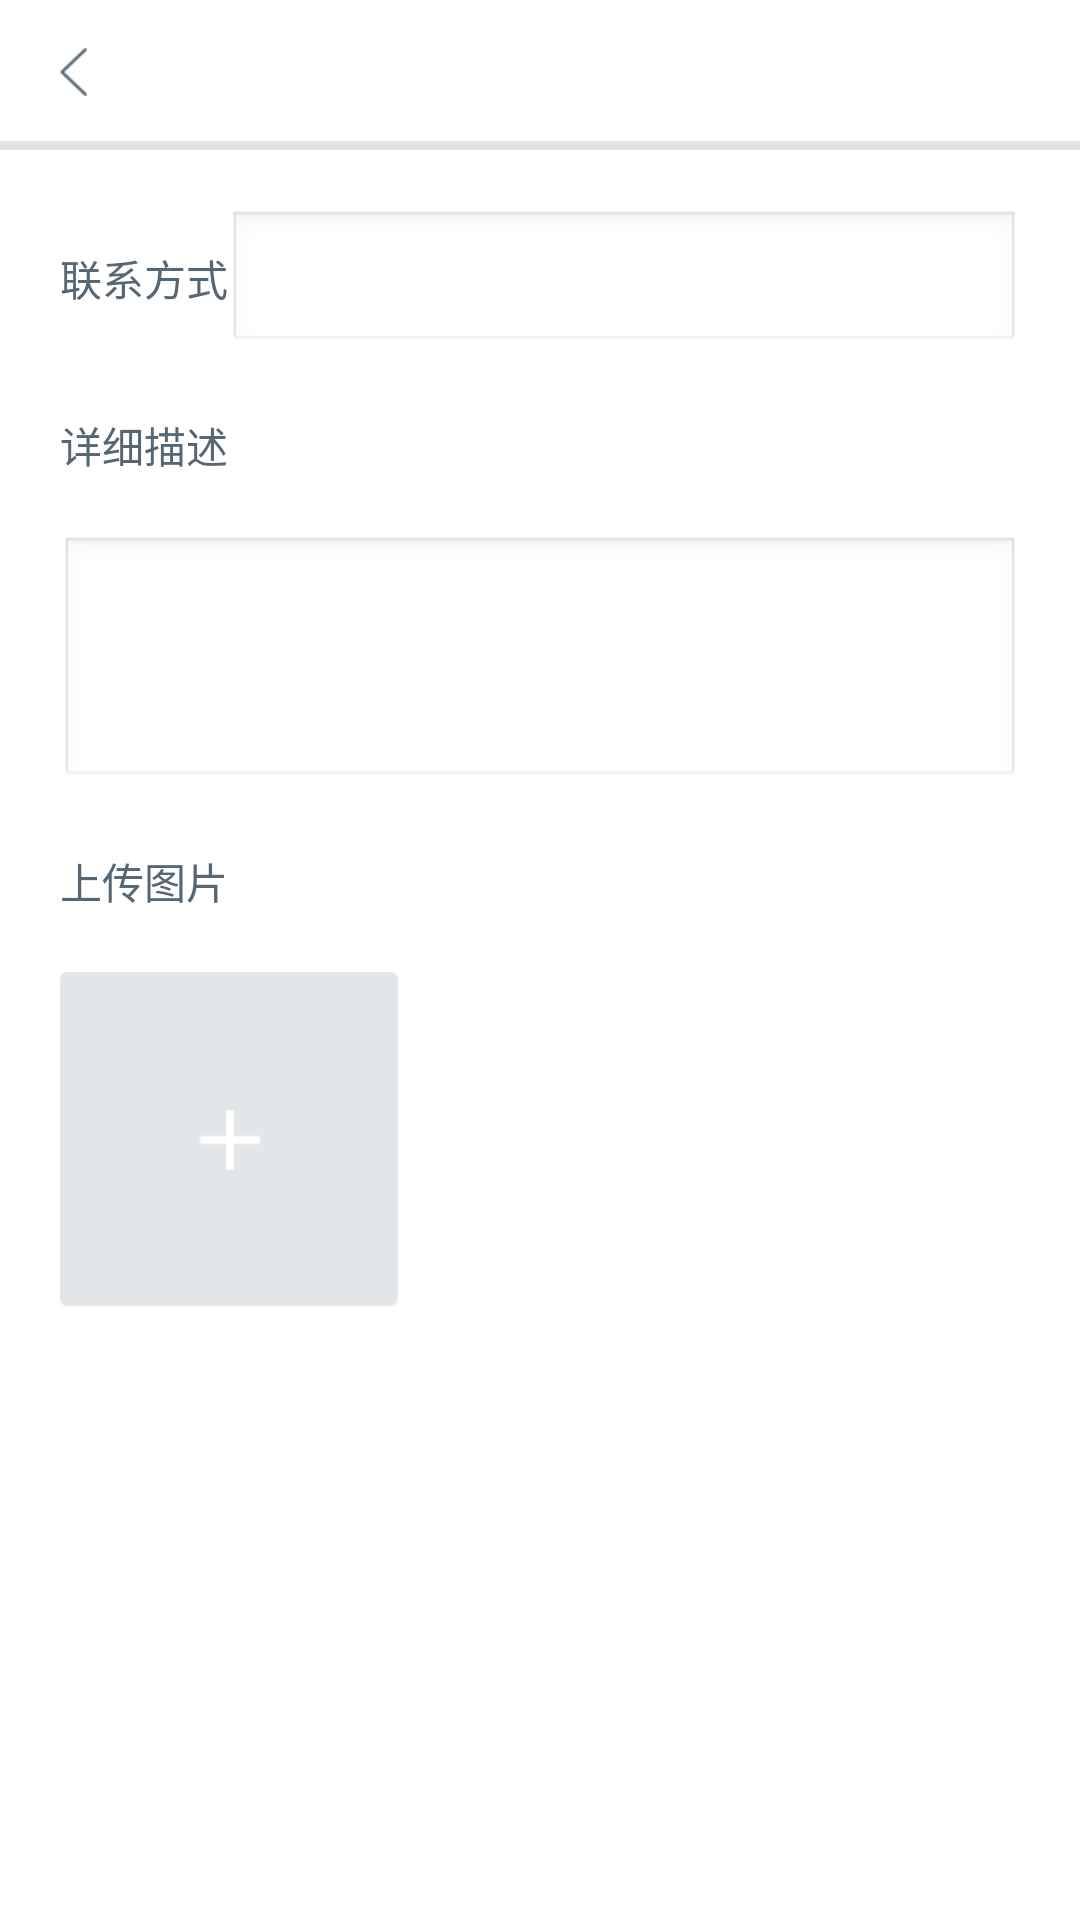

Icon click points for this 1080×1920 phone screenshot, format (x=x, y=y):
back: (x=73, y=72)
